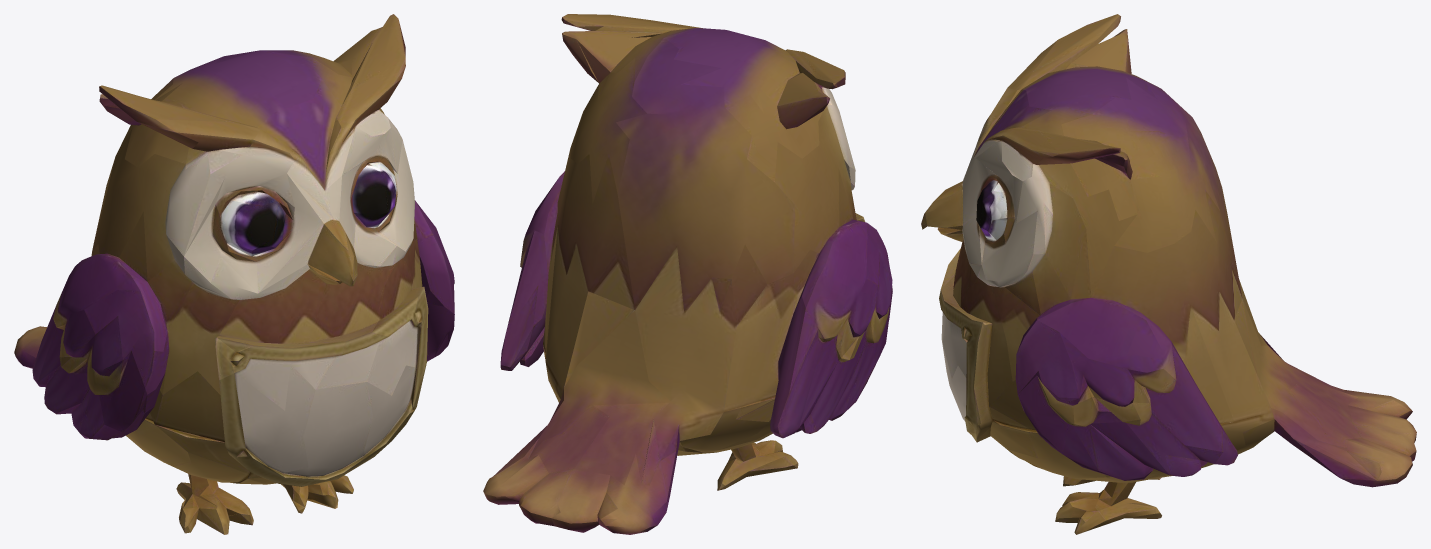
The model's file is coruja.glb.
3 renders of one model, left to right at view 1: azimuth 30°, elevation 25°; view 2: azimuth 150°, elevation 25°; view 3: azimuth 270°, elevation 25°, orthographic. The views are drawn at different scales.
Bounding box in the file's own units: 1.47 × 1.77 × 1.9.
1 material, 1 textured.
